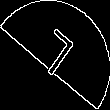L_SW: (31, 26, 79, 84)
